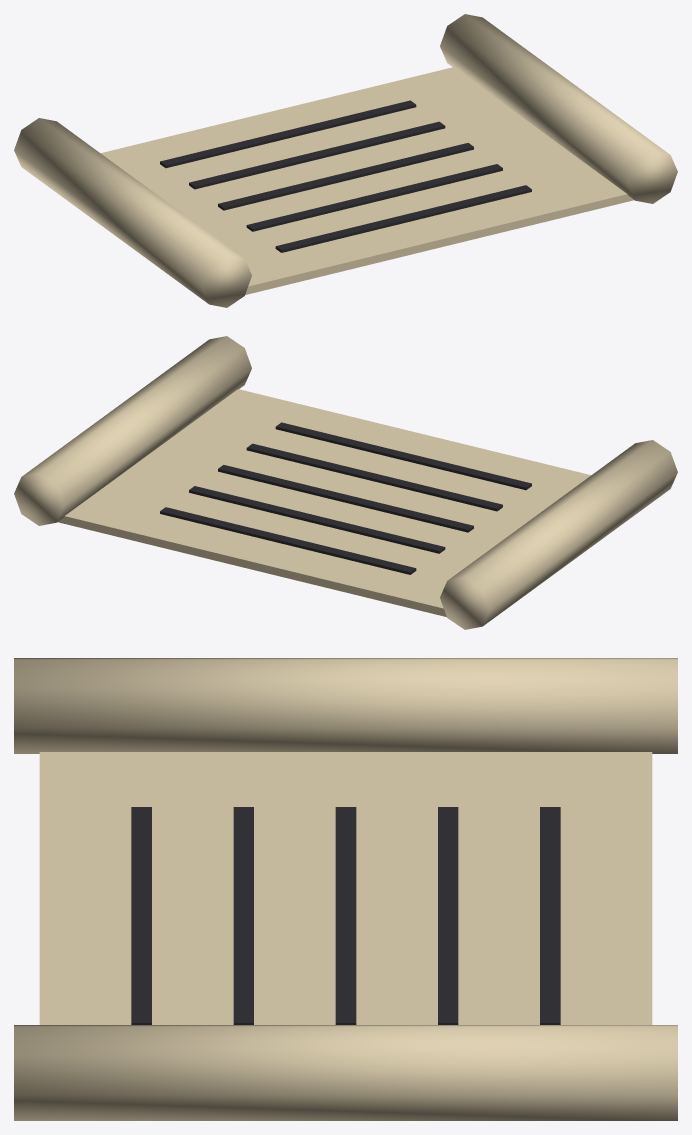
The model's file is scroll_scroll_open.glb.
The picture shows the model from 3 angles, top to bottom: view 1: azimuth 30°, elevation 25°; view 2: azimuth 150°, elevation 25°; view 3: azimuth 270°, elevation 25°; orthographic projection. The views are drawn at different scales.
Visible parts, largest first — view 1: GD_scroll_scroll_open__m0, GD_scroll_scroll_open__m1; view 2: GD_scroll_scroll_open__m0, GD_scroll_scroll_open__m1; view 3: GD_scroll_scroll_open__m0, GD_scroll_scroll_open__m1.
Part boxes in pixels (x1=…): GD_scroll_scroll_open__m0: x1=14, y1=14, x2=677, y2=307; GD_scroll_scroll_open__m1: x1=160, y1=100, x2=531, y2=252; GD_scroll_scroll_open__m0: x1=14, y1=336, x2=677, y2=629; GD_scroll_scroll_open__m1: x1=160, y1=422, x2=531, y2=574; GD_scroll_scroll_open__m0: x1=14, y1=658, x2=677, y2=1120; GD_scroll_scroll_open__m1: x1=131, y1=807, x2=560, y2=1024.
Size of the model in its own units: 0.38 by 0.04 by 0.26.
